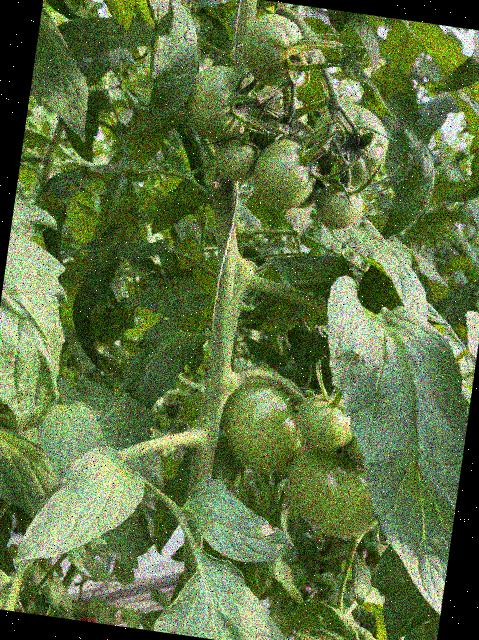b_green: (210, 360, 315, 479), (281, 443, 388, 543), (300, 99, 393, 193), (178, 62, 250, 144), (248, 136, 320, 214), (236, 11, 305, 90), (239, 83, 312, 157), (293, 391, 359, 453), (311, 182, 365, 234), (210, 135, 263, 184)
